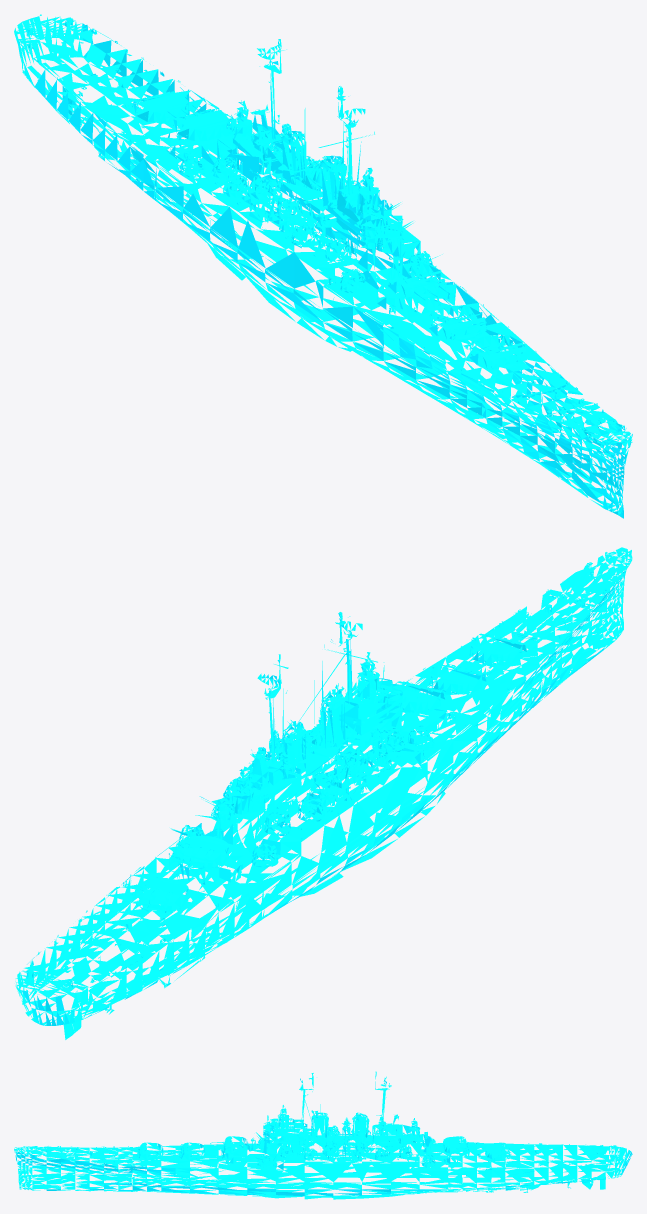
The model's file is Jacksonville.glb.
3 views of the same model, one above another, from view 1: azimuth 30°, elevation 25°; view 2: azimuth 150°, elevation 25°; view 3: azimuth 270°, elevation 25° (orthographic). The views are drawn at different scales.
Bounding box in the file's own units: 1.63 × 3.12 × 14.79.
